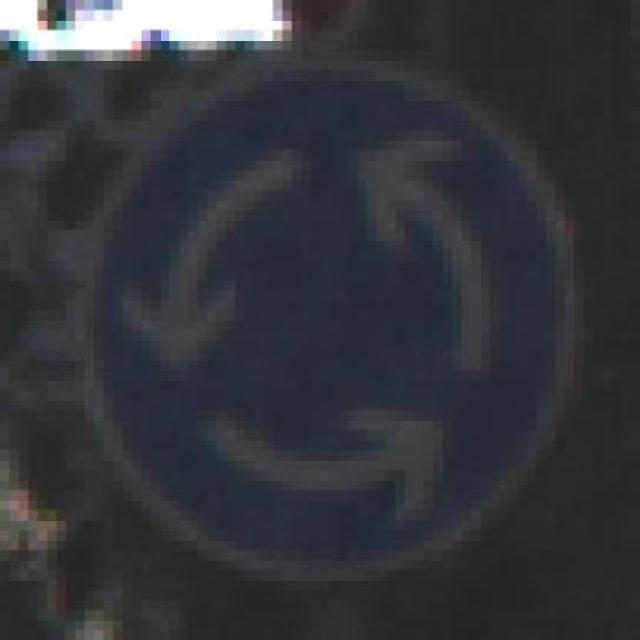Round-About: (75, 69, 593, 580)
